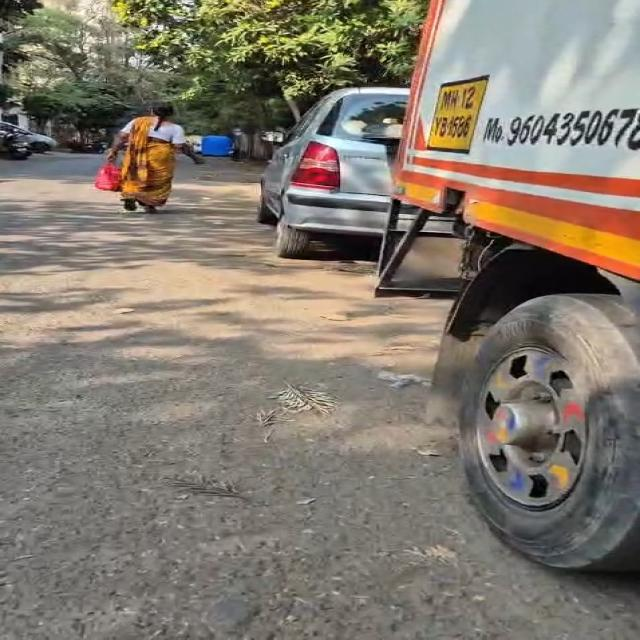obstacle: (377, 0, 639, 570)
person: (108, 104, 202, 213)
vehical: (258, 88, 408, 258), (0, 122, 57, 152), (0, 132, 32, 160)
